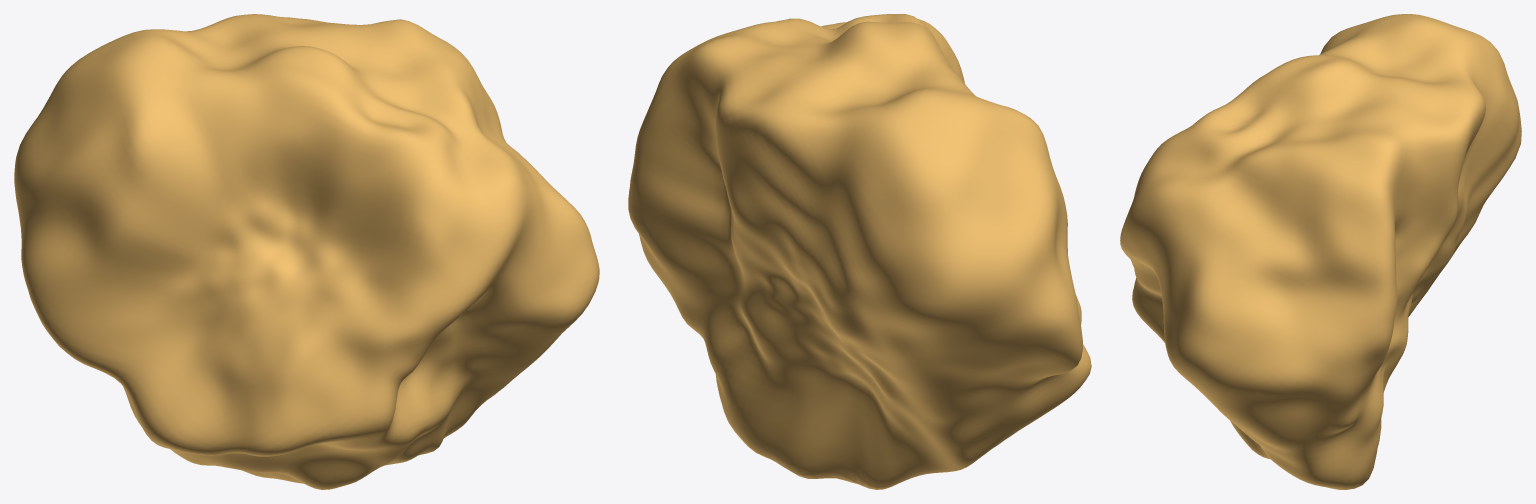
The model's file is nugget-10.glb.
3 views of the same model, side by side, from view 1: azimuth 30°, elevation 25°; view 2: azimuth 150°, elevation 25°; view 3: azimuth 270°, elevation 25° (orthographic). The views are drawn at different scales.
Visible parts, largest first — view 1: nugget-10; view 2: nugget-10; view 3: nugget-10.
Boxes of the visible parts, box(x1,y1,x2,y2) form: nugget-10: box(14, 14, 599, 489); nugget-10: box(628, 14, 1091, 489); nugget-10: box(1120, 14, 1521, 489).
Bounding box in the file's own units: 3.7 × 3.3 × 3.05.
